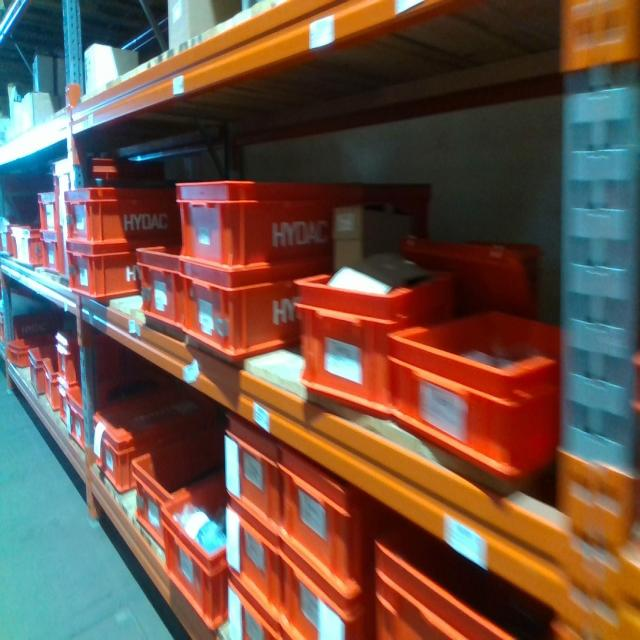small_load_carrier: (383, 300, 566, 490), (295, 268, 447, 406), (370, 524, 543, 633), (274, 443, 381, 590), (173, 179, 336, 270), (162, 478, 254, 631), (176, 254, 304, 360), (86, 390, 208, 497), (132, 449, 221, 553), (217, 406, 282, 536), (282, 540, 367, 639), (222, 507, 293, 620), (49, 152, 144, 234), (61, 187, 179, 246), (57, 242, 141, 313), (331, 178, 423, 236), (132, 240, 184, 333), (218, 577, 286, 638), (60, 387, 92, 453), (12, 222, 45, 273), (27, 337, 54, 395), (56, 332, 83, 389), (15, 310, 62, 342), (43, 354, 66, 410), (36, 183, 58, 237), (6, 340, 42, 370), (3, 215, 19, 260), (39, 237, 58, 270), (59, 385, 67, 433), (1, 313, 6, 350)
